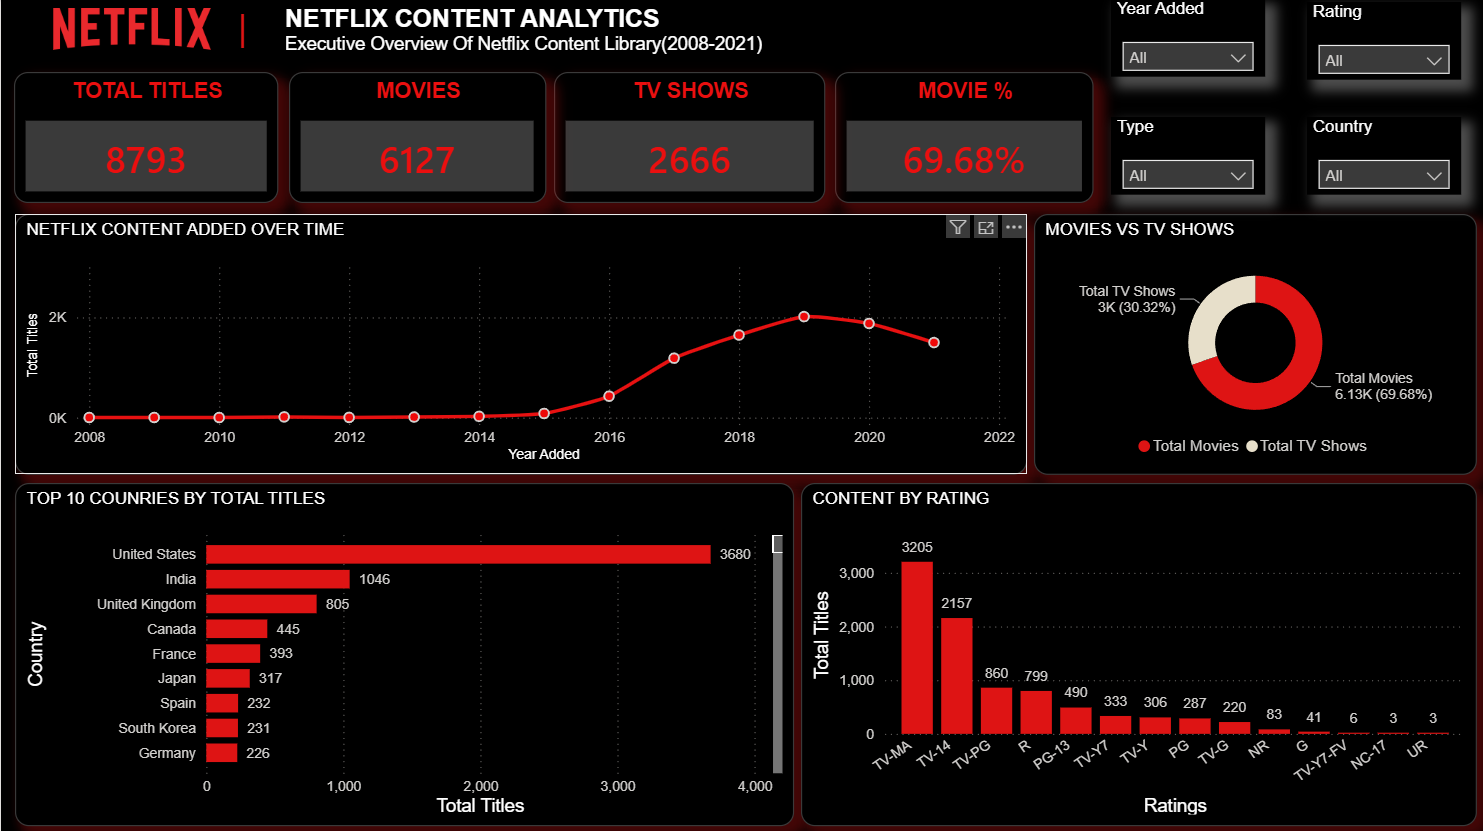

The page's visual inventory and layout, read from the dashboard file:
{"tool":"powerbi","page":{"name":"Overview","canvas":[1280,720],"ordinal":0},"visuals":[{"type":"cardVisual","title":"TOTAL TITLES","fields":{"Data":["Fact_Netflix.Total Titles"]},"box":[11.2,63,228.3,113.3],"z":0},{"type":"cardVisual","title":"MOVIE %","fields":{"Data":["Fact_Netflix.Movie %"]},"box":[719.1,62.7,223.3,113.3],"z":1000},{"type":"cardVisual","title":"TV SHOWS","fields":{"Data":["Fact_Netflix.Total TV Shows"]},"box":[477.3,62.7,234.2,113.3],"z":2000},{"type":"cardVisual","title":"MOVIES","fields":{"Data":["Fact_Netflix.Total Movies"]},"box":[248.2,62.7,221.7,113.3],"z":3000},{"type":"image","box":[11.8,8.2,201.8,36.4],"z":4000},{"type":"lineChart","title":"NETFLIX CONTENT ADDED OVER TIME","fields":{"Y":["Fact_Netflix.Total Titles"],"Category":["Fact_Netflix.Year Added"]},"box":[11.9,185.5,872.7,224.5],"z":5000},{"type":"donutChart","title":"MOVIES VS TV SHOWS","fields":{"Y":["Fact_Netflix.Total Movies","Fact_Netflix.Total TV Shows"]},"box":[890.9,185.5,381.8,224.5],"z":6000},{"type":"textbox","box":[240,0,434.5,52.7],"z":7000},{"type":"clusteredBarChart","title":"TOP 10 COUNRIES BY  TOTAL TITLES","fields":{"Category":["Dim_Country.country"],"Y":["Fact_Netflix.Total Titles"]},"box":[11.8,417.3,671.8,296.4],"z":8000},{"type":"clusteredColumnChart","title":"CONTENT BY RATING","fields":{"Category":["Dim_Rating.rating"],"Y":["Fact_Netflix.Total Titles"]},"box":[690,417.3,582.7,296.4],"z":9000},{"type":"slicer","title":"Year Added","fields":{"Values":["Dim_Date.Year"]},"box":[957.3,0,132.7,67.3],"z":10000},{"type":"slicer","title":"Rating","fields":{"Values":["Dim_Rating.rating"]},"box":[1126.4,2.7,132.7,67.3],"z":11000},{"type":"slicer","title":"Type","fields":{"Values":["Fact_Netflix.type"]},"box":[957.3,101.8,132.7,67.3],"z":12000},{"type":"slicer","title":"Country","fields":{"Values":["Fact_Netflix.country"]},"box":[1126.4,101.8,132.7,67.3],"z":13000},{"type":"textbox","box":[199.1,2.7,23.6,50],"z":14000}]}

Visuals, with their boxes in screenshot pixels (x1, y1, x2, y2), scaled from the page's 1280x720 canvas onto the 1483x831 screenshot:
"TOTAL TITLES" cardVisual: bbox=(13, 73, 277, 203)
"MOVIE %" cardVisual: bbox=(833, 72, 1092, 203)
"TV SHOWS" cardVisual: bbox=(553, 72, 824, 203)
"MOVIES" cardVisual: bbox=(288, 72, 544, 203)
image: bbox=(14, 9, 247, 51)
"NETFLIX CONTENT ADDED OVER TIME" lineChart: bbox=(14, 214, 1025, 473)
"MOVIES VS TV SHOWS" donutChart: bbox=(1032, 214, 1475, 473)
textbox: bbox=(278, 0, 781, 61)
"TOP 10 COUNRIES BY  TOTAL TITLES" clusteredBarChart: bbox=(14, 482, 792, 824)
"CONTENT BY RATING" clusteredColumnChart: bbox=(799, 482, 1475, 824)
"Year Added" slicer: bbox=(1109, 0, 1263, 78)
"Rating" slicer: bbox=(1305, 3, 1459, 81)
"Type" slicer: bbox=(1109, 117, 1263, 195)
"Country" slicer: bbox=(1305, 117, 1459, 195)
textbox: bbox=(231, 3, 258, 61)
